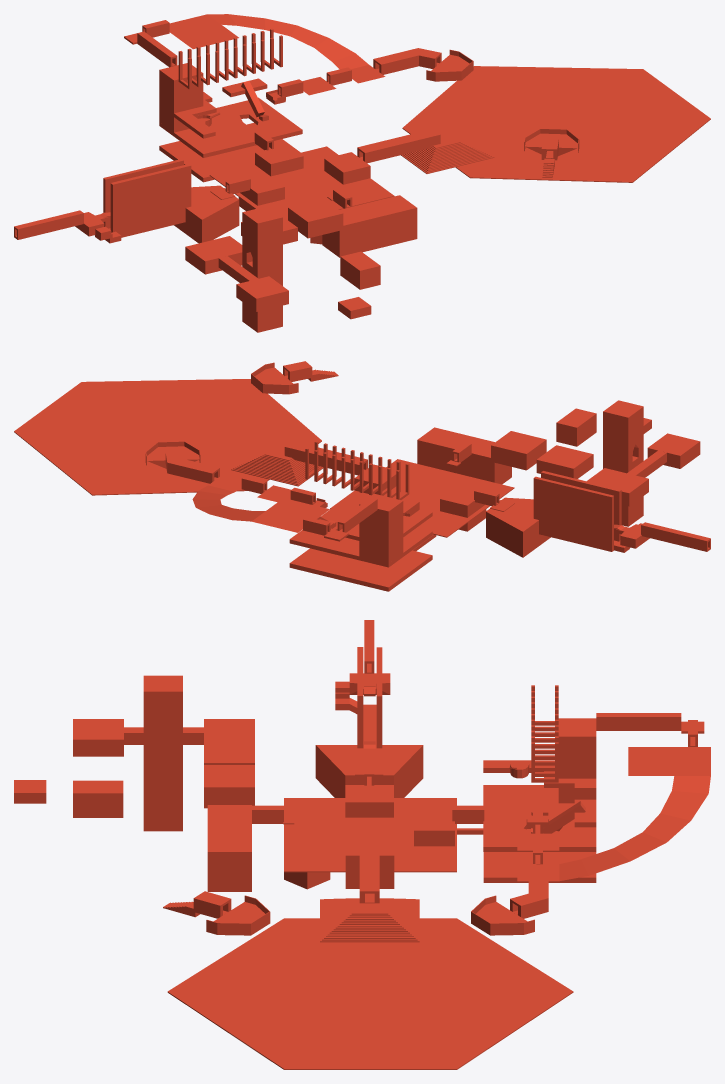
Rendered from wip_dungeon1_blockout.glb.
The picture shows the model from 3 angles, top to bottom: view 1: azimuth 30°, elevation 25°; view 2: azimuth 150°, elevation 25°; view 3: azimuth 270°, elevation 25°; orthographic projection. The views are drawn at different scales.
Parts seen in each view (by area): view 1: Cube.015; view 2: Cube.015; view 3: Cube.015.
Boxes of the visible parts, x1,y1,x2,y2 form: Cube.015: (14,14,710,332); Cube.015: (14,361,710,591); Cube.015: (14,620,710,1069).
Size of the model in its own units: 149 by 30.59 by 106.
